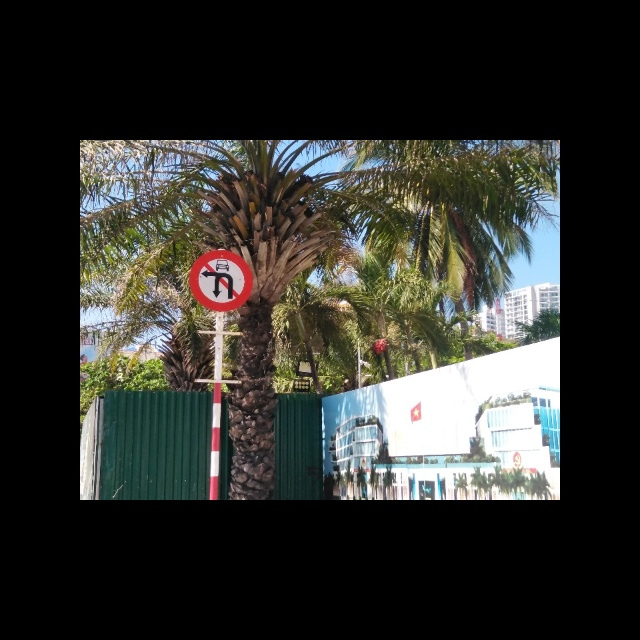Cấm xe ô tô quay đầu và rẽ trái: (187, 247, 257, 310)
